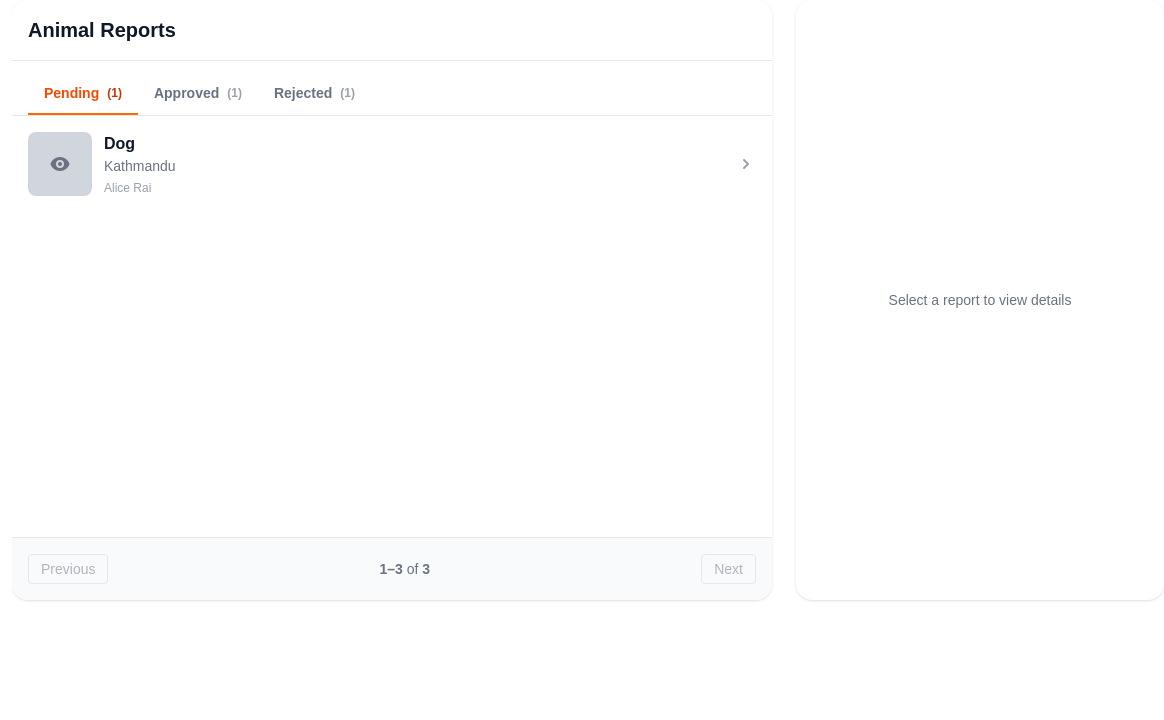
Test: AdminReportsPage — detail panel › shows report description when a row is clicked
Step 1. Click the button "Dog Kathmandu Alice Rai" → [60, 164], box [12,116,772,212]
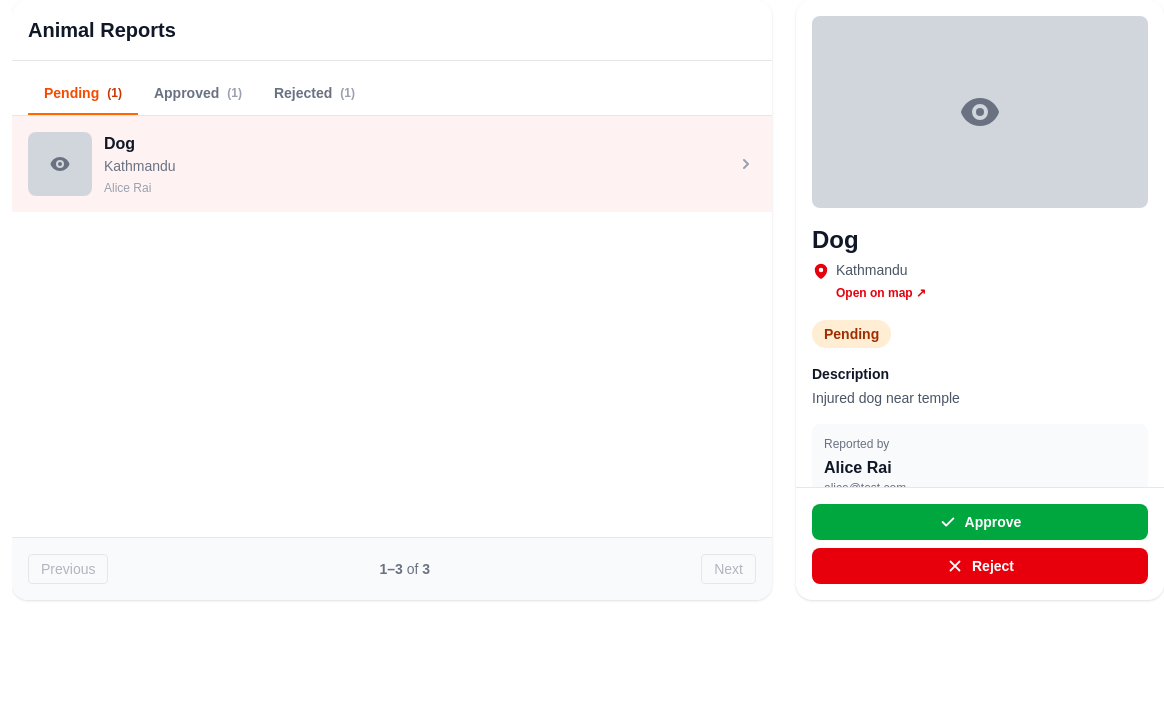
expect the text "Injured dog near temple" is shown: met, box [812,390,960,406]
